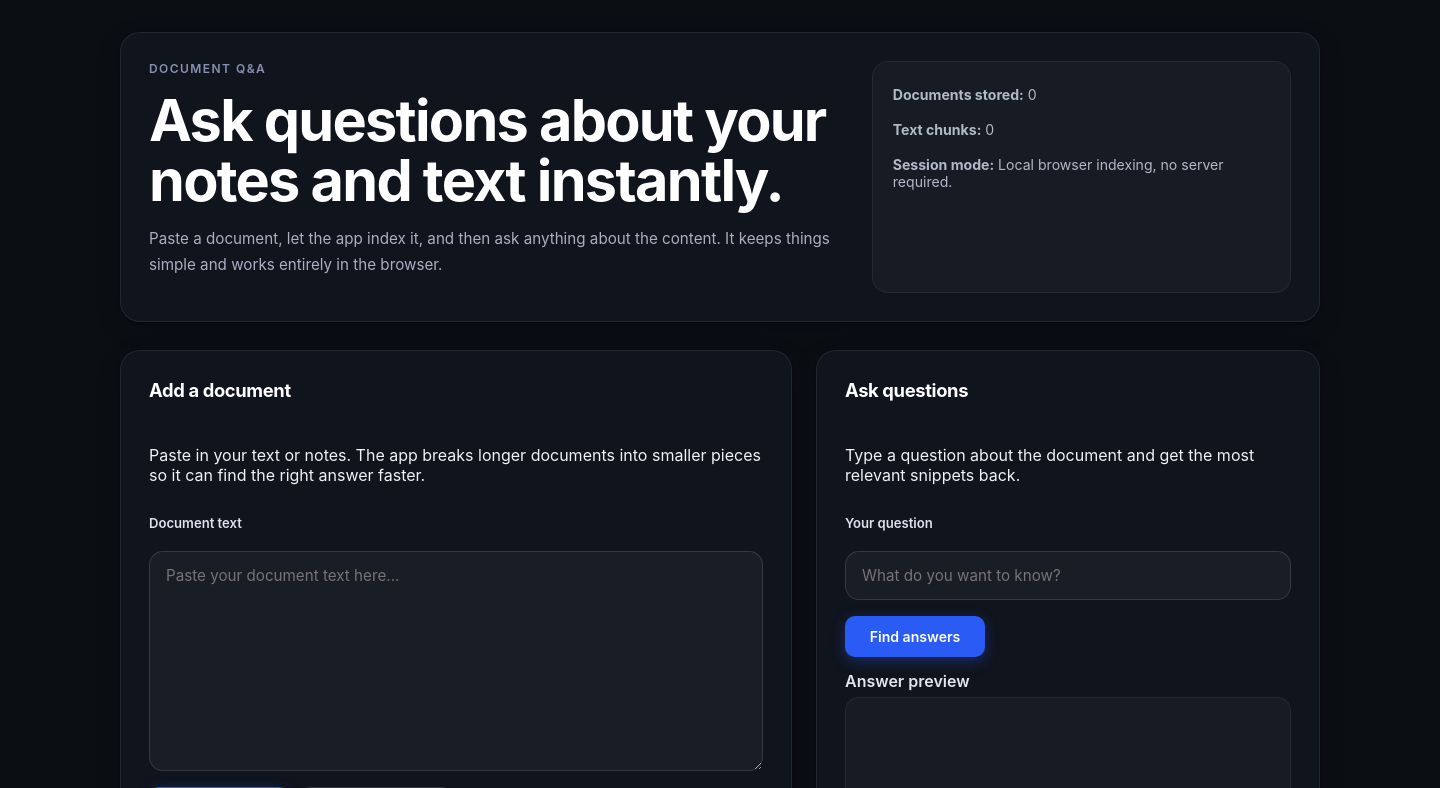
Test: DocQ Component Integration › handles clearing all state when reset button is clicked
// Index a doc first
Type "Sample note content." into the text box with placeholder "Paste your document text here..." at (456,661), box x1=149 y1=551 x2=763 y2=771
(page scrolled)
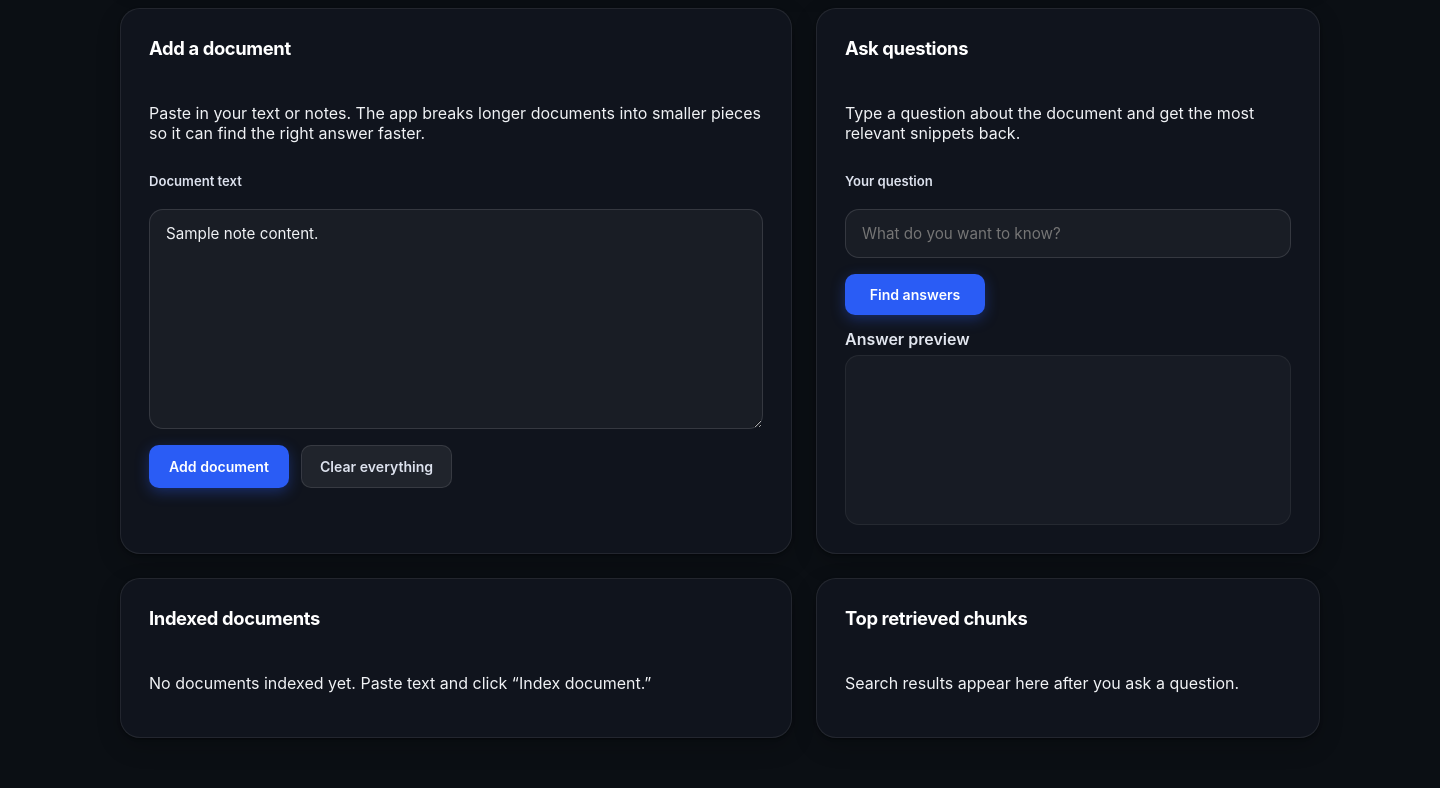
Click the button "Add document" at (219,466), box x1=149 y1=445 x2=289 y2=488
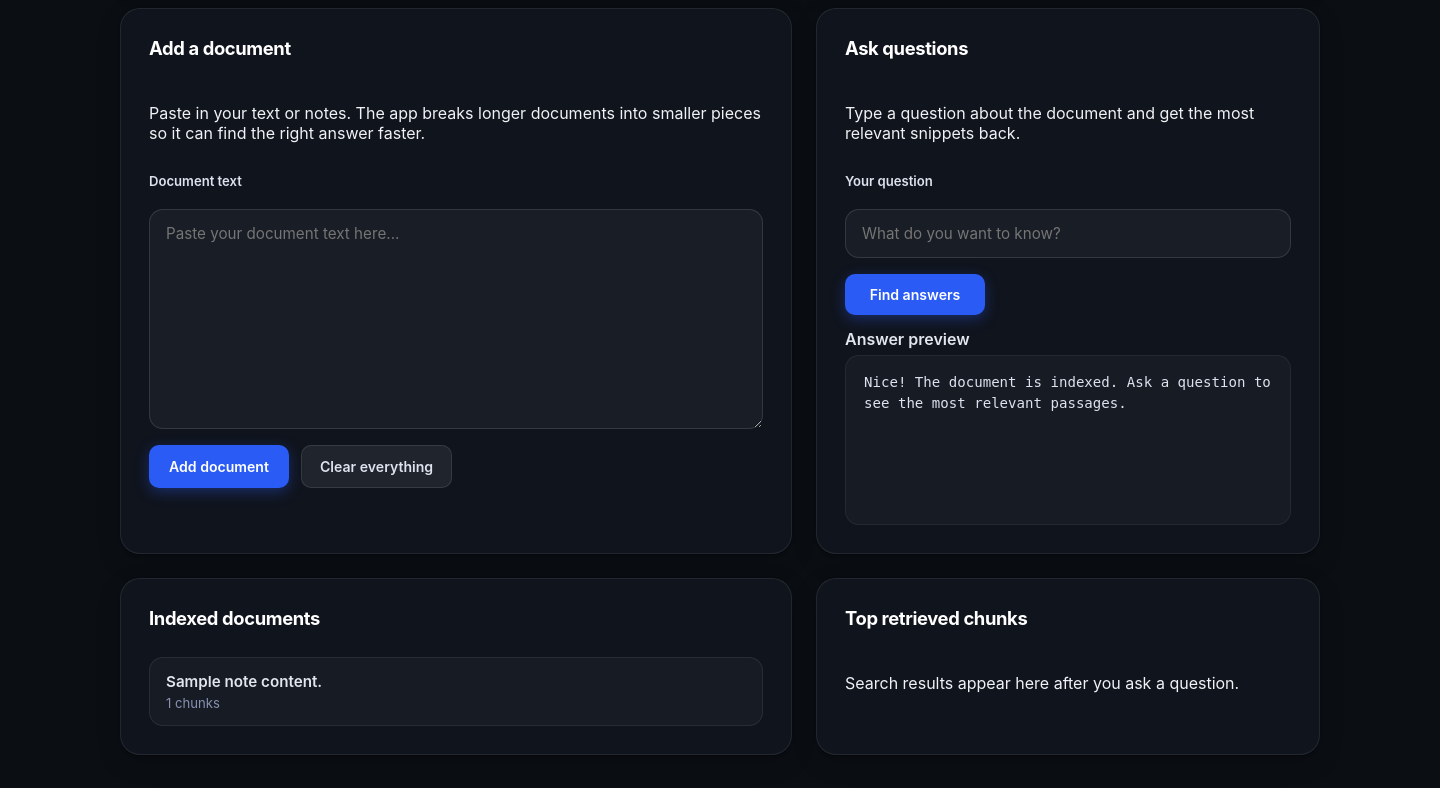
// Click clear everything
Click the button "Clear everything" at (377,466), box x1=301 y1=445 x2=452 y2=488
(page scrolled)
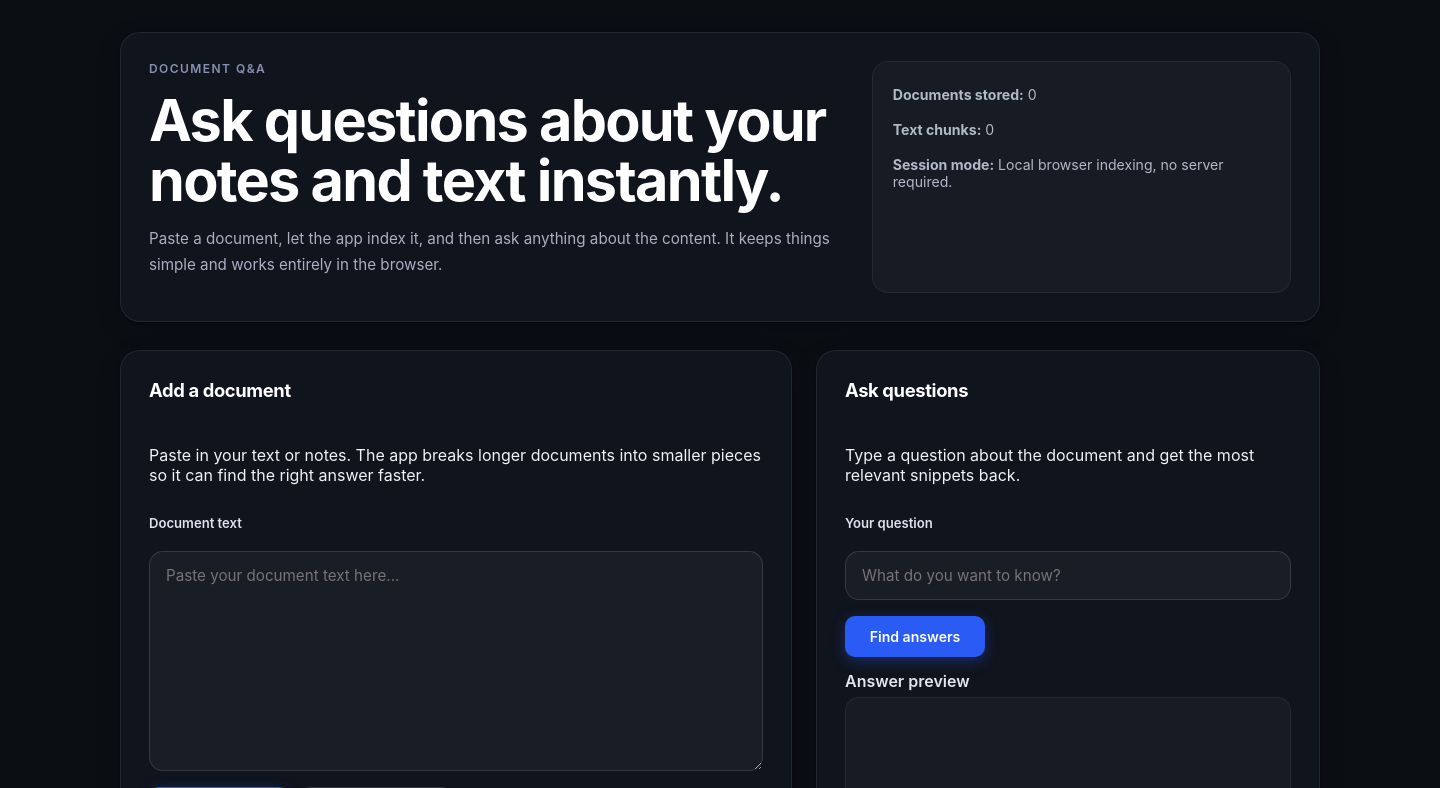
Expected: the element showing "Documents stored: 0" is shown, x1=893 y1=86 x2=1037 y2=103
Expected: the element showing "Text chunks: 0" is shown, x1=893 y1=121 x2=994 y2=138
